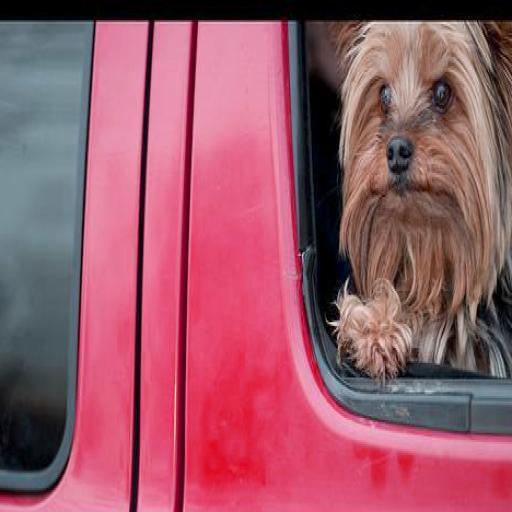dog_face: (340, 24, 507, 295)
